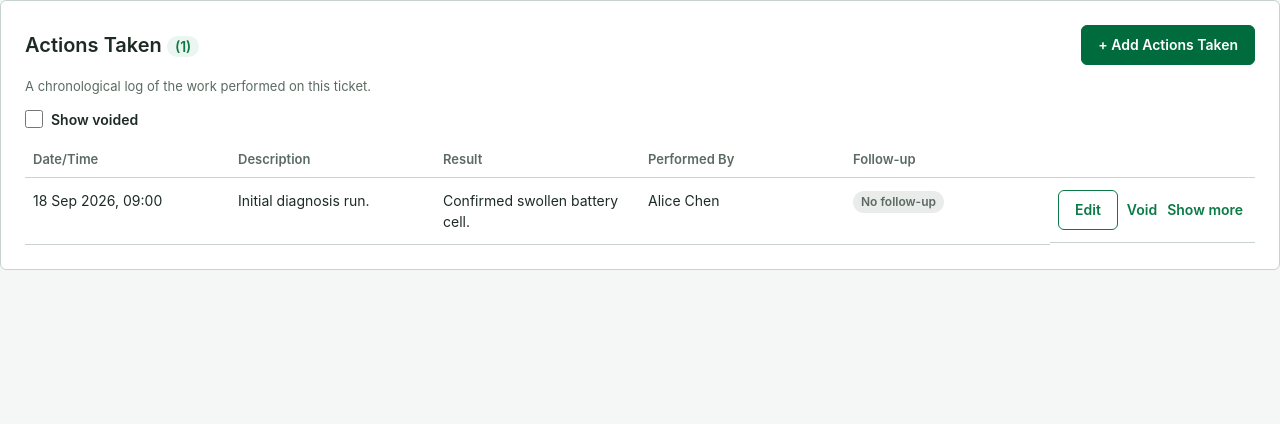
Actions Taken — view mode (ui-spec §4.2) › hides voided rows by default and shows them under the Show-voided toggle (staff only)
The width and height of the screenshot is (1280, 424).
Check: the row with test id "actions-taken-row" is shown, box [25, 178, 1255, 244]
Check: the text "Duplicate entry." is not shown
Click the checkbox with test id "show-voided-toggle": (34, 119) [25, 110, 43, 128]
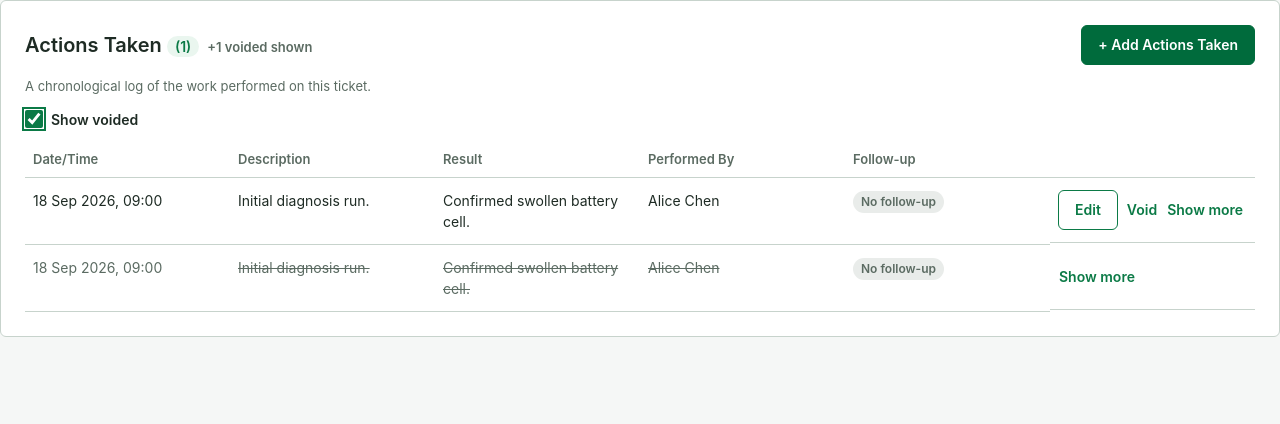
Click the button with test id "expand-action-act-voided": (1097, 276) [1058, 256, 1136, 296]
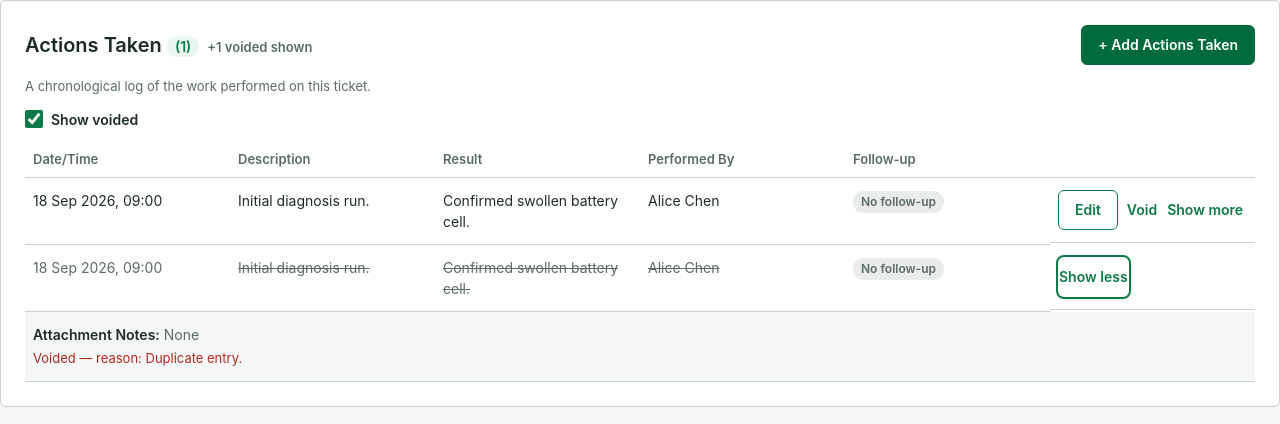
Check: the text with test id "void-caption-act-voided" reads "Voided — reason: Duplicate entry.", box [33, 350, 242, 366]
